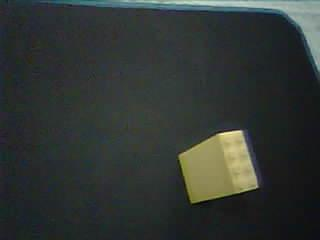lego: (177, 129, 259, 204)
